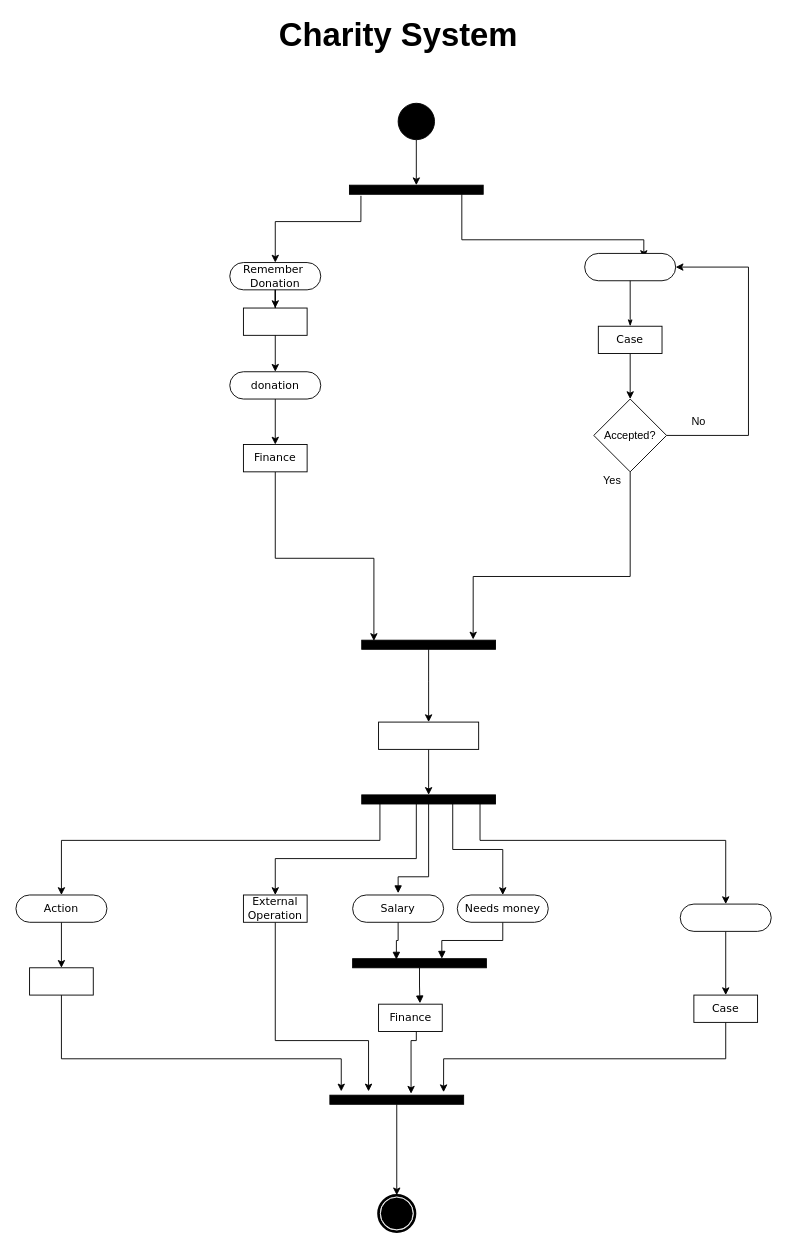
This 787x1248 diagram has some shape labels left out. The box of each missing label's shape, as (x1, y1, x2, y2) in pixels:
donors: (243, 307, 307, 335)
Explore cases: (584, 253, 676, 281)
follow up: (679, 903, 771, 931)
Management: (378, 721, 479, 749)
Volunteers: (29, 967, 93, 995)
